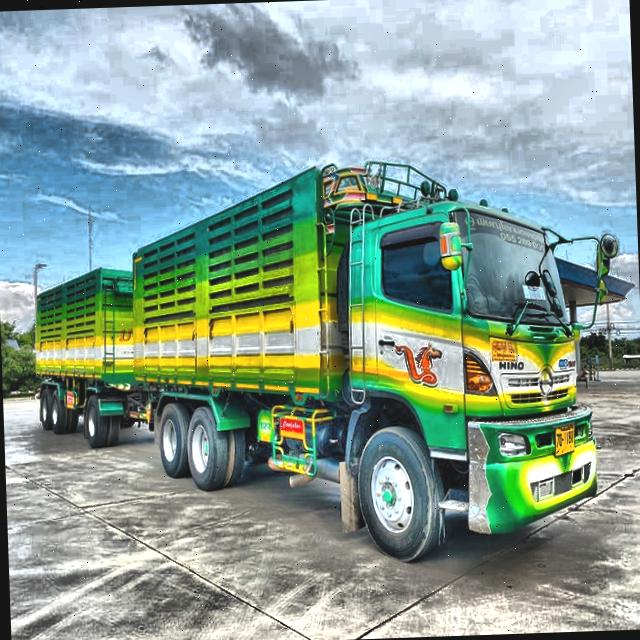trailer: (27, 151, 600, 577)
